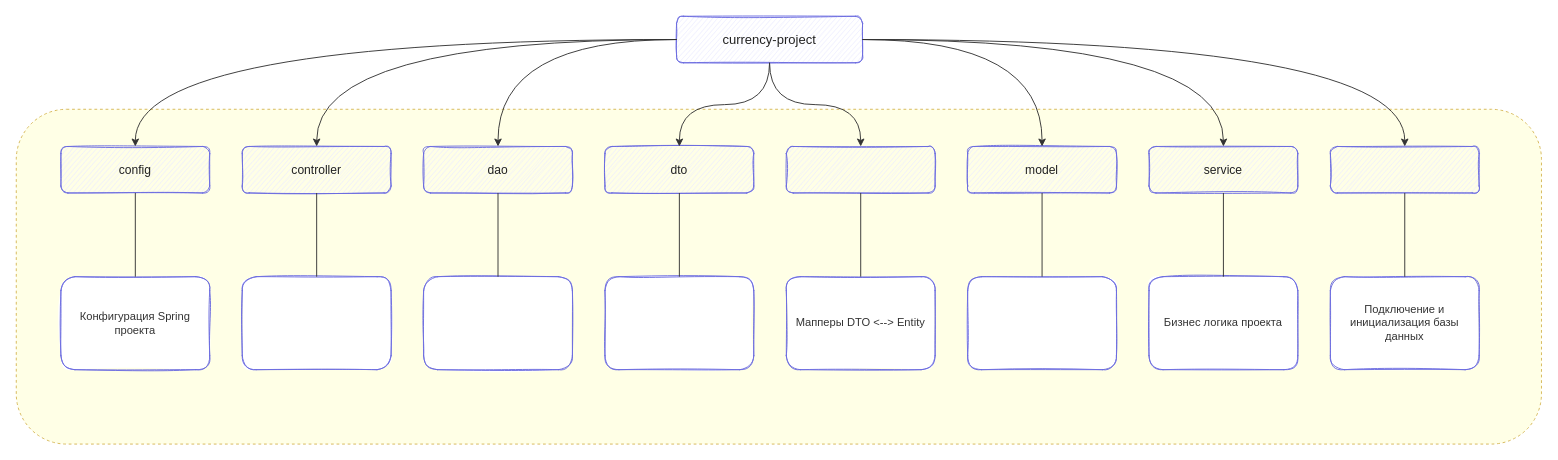
This 1558x460 diagram has some shape labels left out. Each missing label, with the centre of its shape:
mapping: [860,169]
util: [1404,169]
Все сущности проекта: [1041,323]
Контроллеры: [316,323]
Объекты передачи данных между слоями: [679,323]
Работа с базами данных: [497,323]
